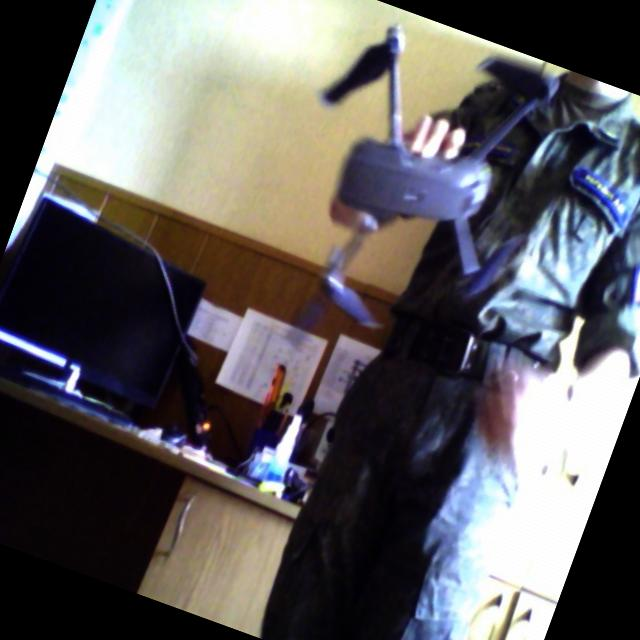drone: (266, 0, 595, 357)
